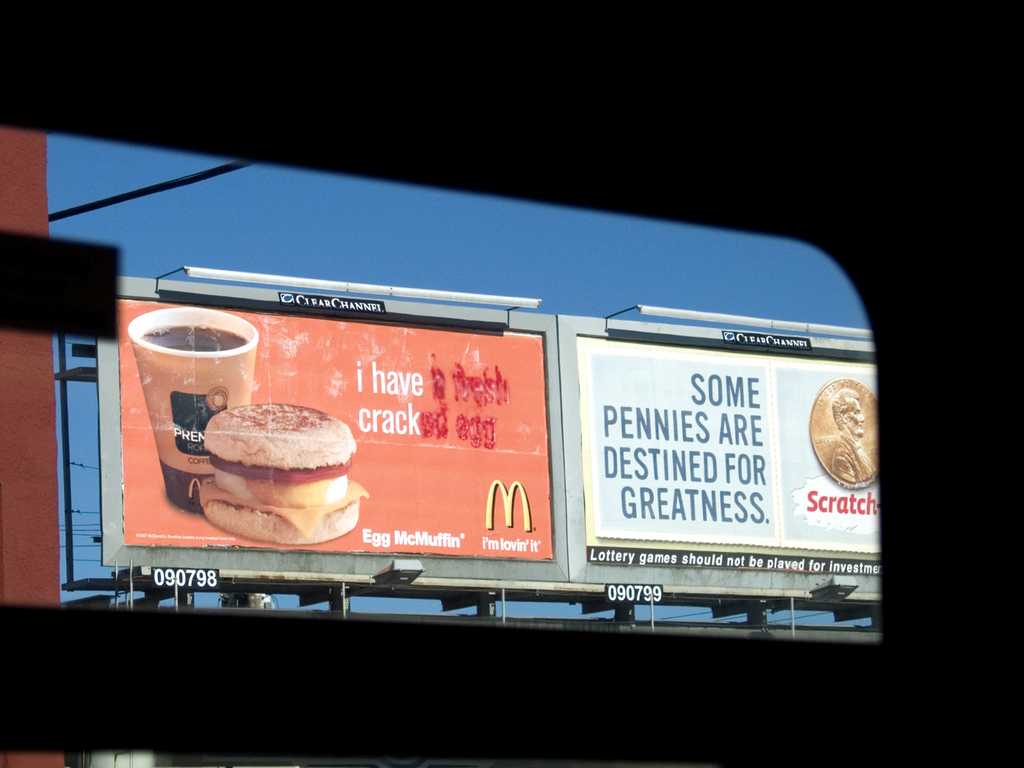Hamburger: (196, 401, 365, 542)
